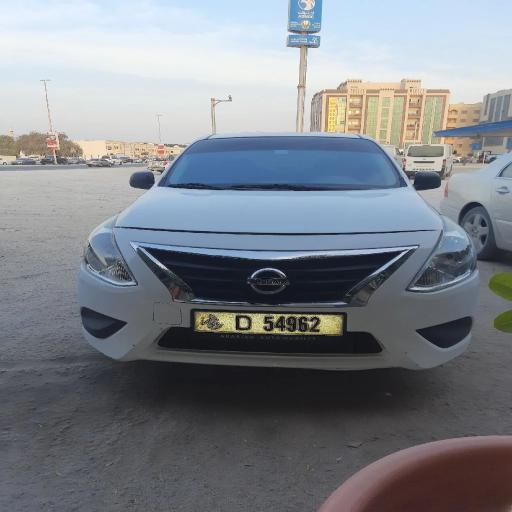license-plates: (194, 311, 344, 335)
